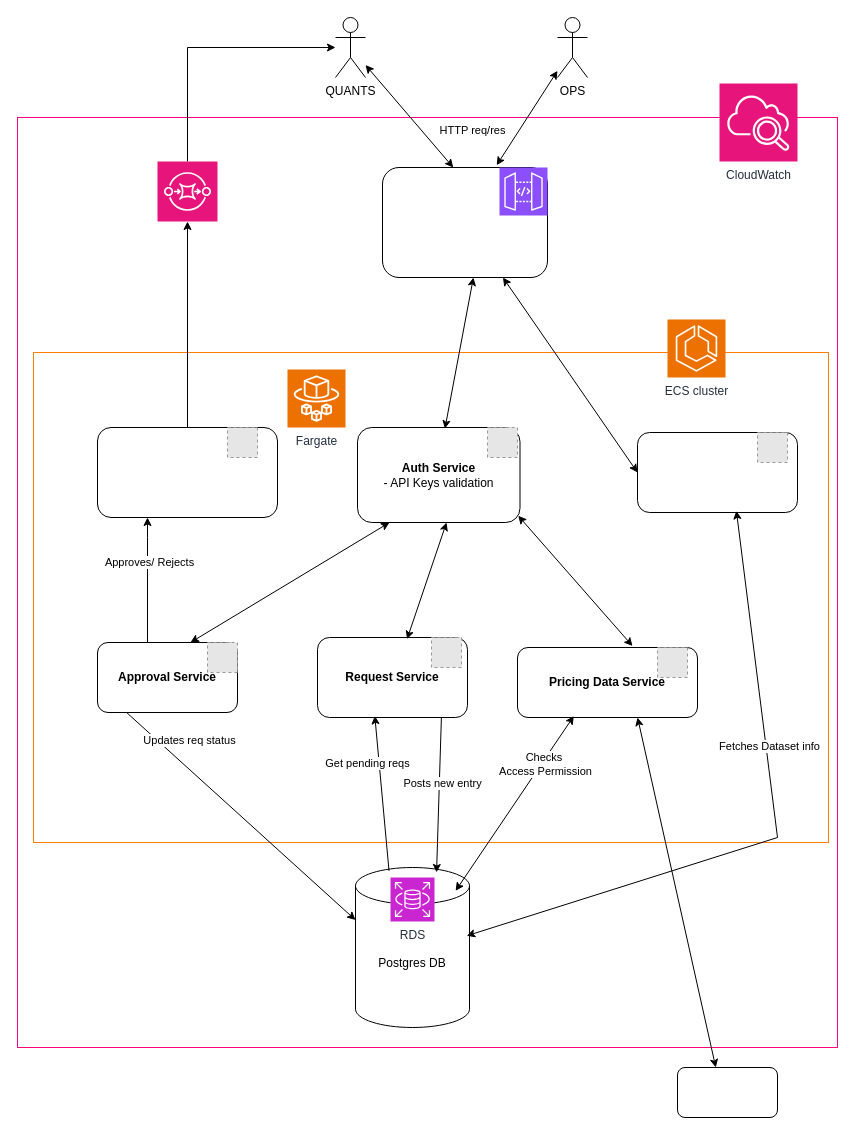
Some shapes in this 855 by 1135 pixel diagram are drawn without their labels. Grey dashed boxes stand in for pictures. Each missing label, with the box of its shape:
API Gateway: (382, 166, 548, 278)
CoinCap API: (676, 1066, 778, 1118)
Metadata Public Service: (636, 432, 798, 512)
Notification Service: (96, 426, 278, 518)
SQS: (156, 160, 218, 222)
